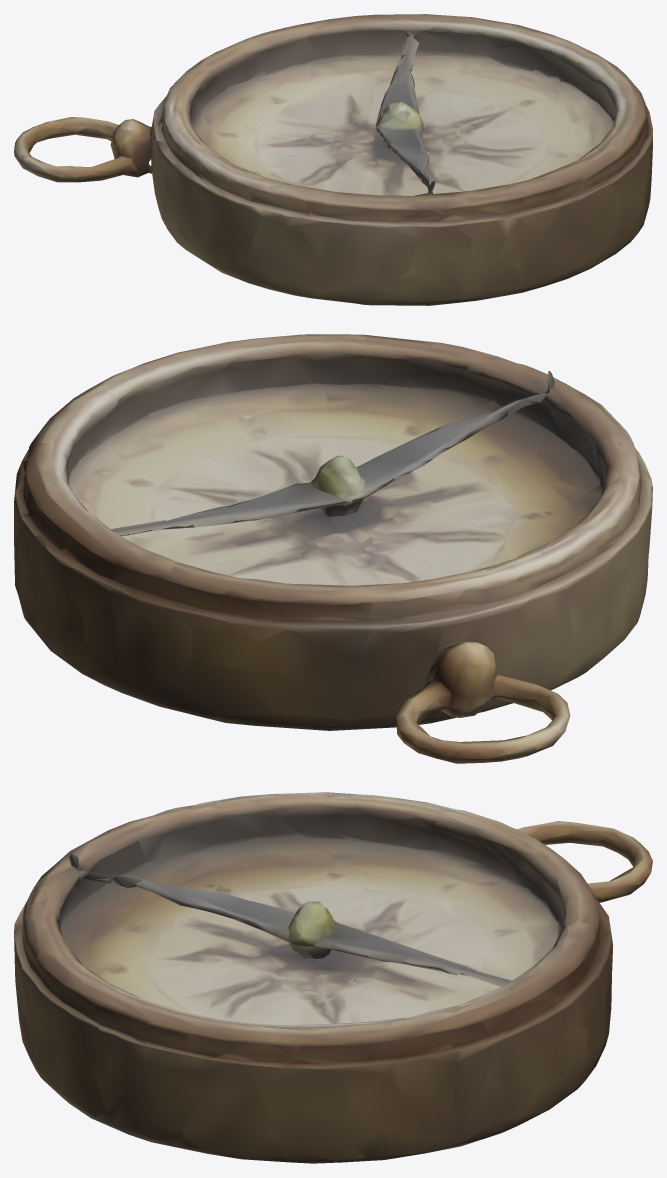
File: 0002_mask_003_compass.glb
3 views of the same model, one above another, from view 1: azimuth 30°, elevation 25°; view 2: azimuth 150°, elevation 25°; view 3: azimuth 270°, elevation 25° (orthographic). The views are drawn at different scales.
Parts seen in each view (by area): view 1: mask_003_object; view 2: mask_003_object; view 3: mask_003_object.
Part boxes in pixels (box(x1,y1,x2,y2)): mask_003_object: box(14, 14, 652, 305); mask_003_object: box(14, 334, 652, 763); mask_003_object: box(14, 792, 652, 1163).
Bounding box in the file's own units: 0.1411 × 0.0345 × 0.13.
